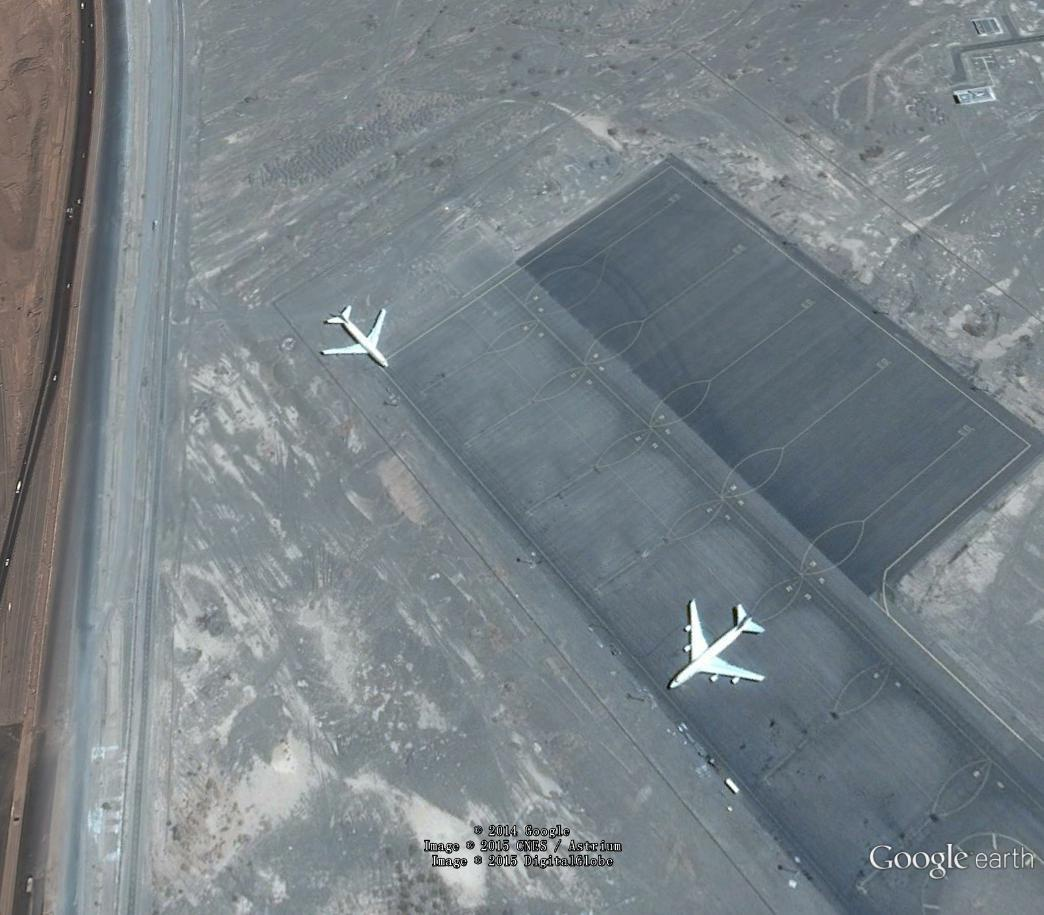aircraft: (660, 588, 781, 700), (316, 297, 402, 376)
